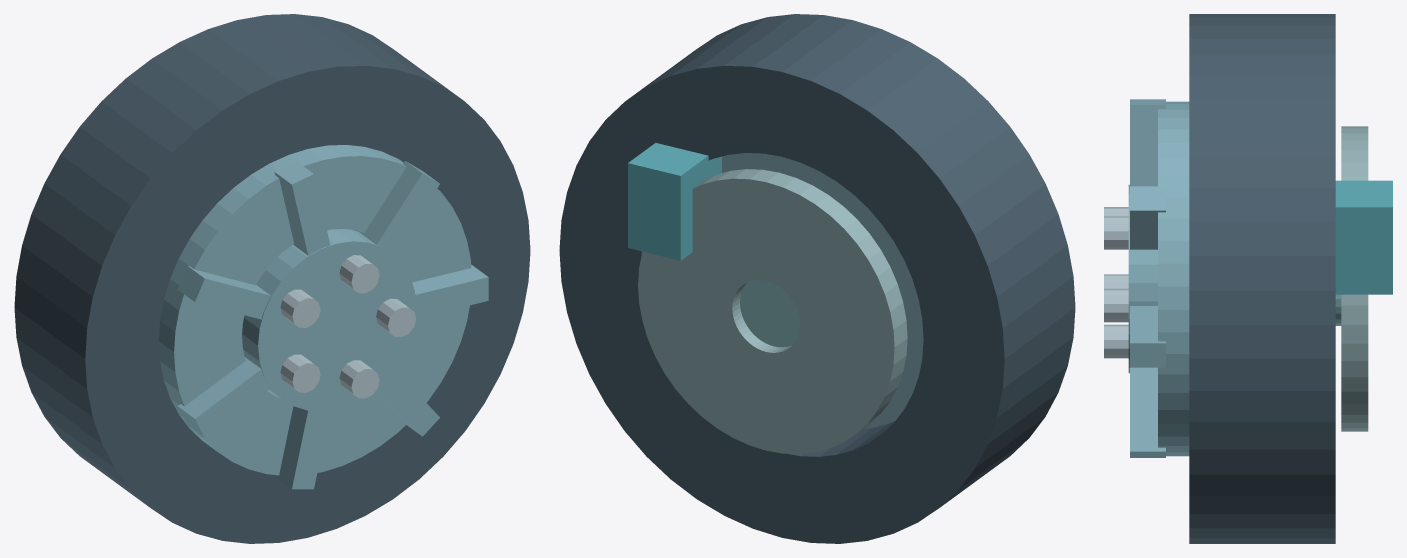
Rendered from wheel-brakes-demo.glb.
3 renders of one model, left to right at view 1: azimuth 30°, elevation 25°; view 2: azimuth 150°, elevation 25°; view 3: azimuth 270°, elevation 25°, orthographic. The views are drawn at different scales.
Visible parts, largest first — view 1: Tire, Wheel Rim, Lug Nuts; view 2: Tire, Brake Rotor, Brake Caliper, Wheel Rim, Wheel Hub; view 3: Tire, Wheel Rim, Brake Caliper, Brake Rotor, Lug Nuts.
Part boxes in pixels (x1=…): Tire: x1=14, y1=14, x2=530, y2=543; Wheel Rim: x1=159, y1=145, x2=488, y2=489; Lug Nuts: x1=280, y1=255, x2=415, y2=398; Tire: x1=559, y1=14, x2=1075, y2=543; Brake Rotor: x1=638, y1=169, x2=907, y2=454; Brake Caliper: x1=628, y1=143, x2=721, y2=260; Wheel Rim: x1=722, y1=153, x2=923, y2=428; Wheel Hub: x1=740, y1=280, x2=800, y2=347; Tire: x1=1189, y1=14, x2=1335, y2=543; Wheel Rim: x1=1128, y1=99, x2=1189, y2=457; Brake Caliper: x1=1335, y1=180, x2=1392, y2=294; Brake Rotor: x1=1341, y1=126, x2=1368, y2=431; Lug Nuts: x1=1104, y1=207, x2=1128, y2=358.
Size of the model in its own units: 2.36 by 2.36 by 1.29.
